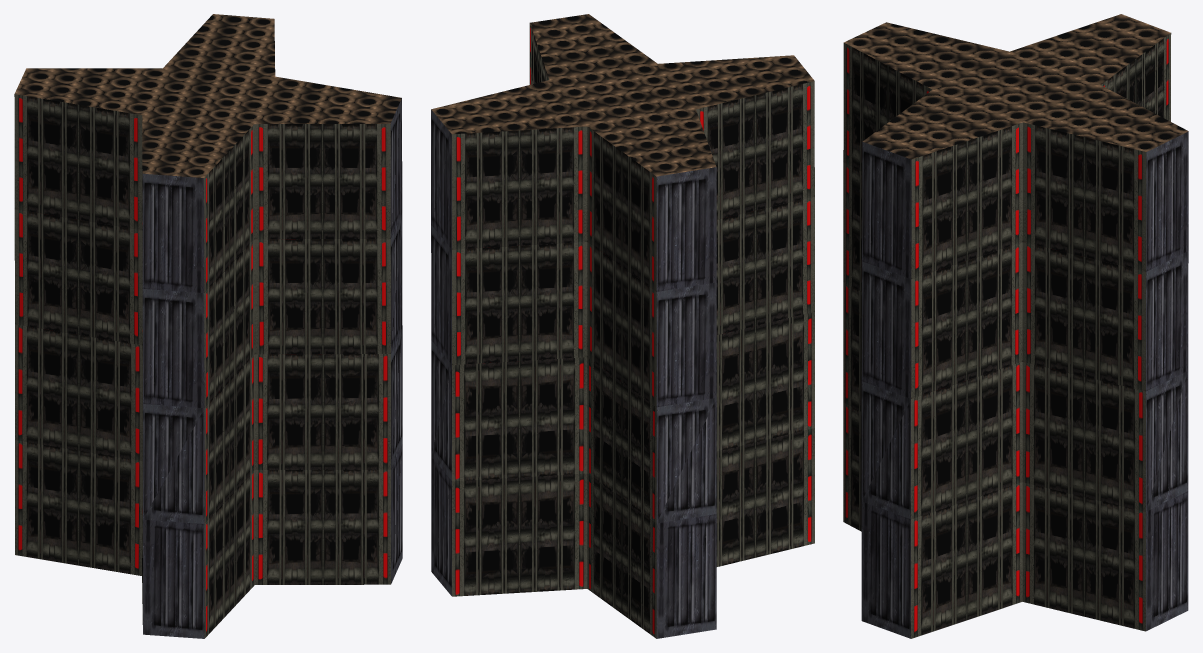
Rendered from City_Building008.fbx.
3 renders of one model, left to right at view 1: azimuth 30°, elevation 25°; view 2: azimuth 150°, elevation 25°; view 3: azimuth 270°, elevation 25°, orthographic. The views are drawn at different scales.
Visible parts, largest first — view 1: City_Building_008:Building_008; view 2: City_Building_008:Building_008; view 3: City_Building_008:Building_008.
Boxes of the visible parts, bbox=[...] form: City_Building_008:Building_008: bbox=[14, 14, 402, 638]; City_Building_008:Building_008: bbox=[431, 14, 814, 638]; City_Building_008:Building_008: bbox=[843, 14, 1188, 638].
Bounding box in the file's own units: 842 × 1294 × 845.
1 material, 1 textured.
